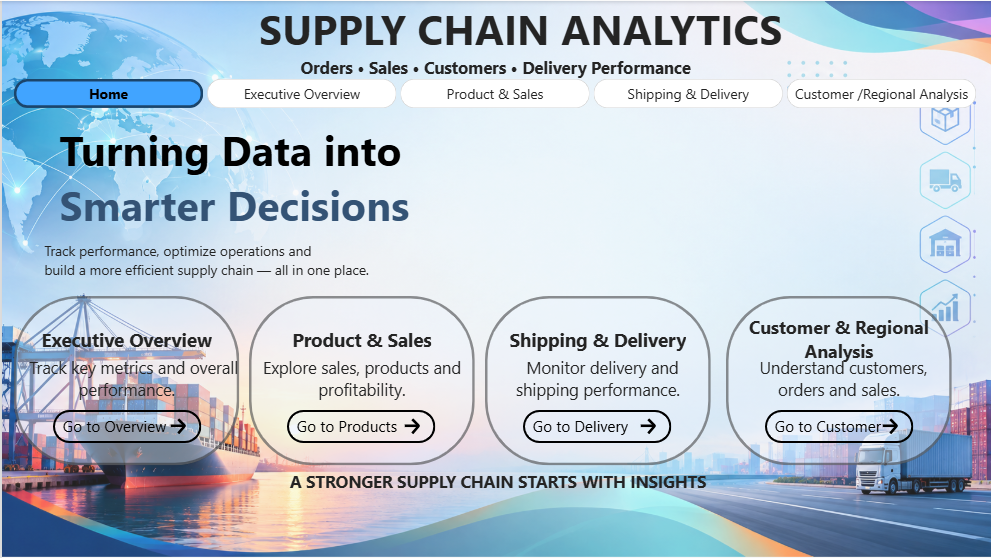

What the dashboard file says about the page in this screenshot:
{"tool":"powerbi","page":{"name":"Home","canvas":[1920,1080],"ordinal":0},"visuals":[{"type":"pageNavigator","box":[23.5,151,1866.7,56.9],"z":0},{"type":"textbox","box":[0,0,1919.4,150],"z":1000},{"type":"textbox","box":[23.4,233.9,1866.6,306.1],"z":2000},{"type":"shape","box":[24.1,570.4,436.1,327.8],"z":3000},{"type":"textbox","box":[24.1,687,437,94.4],"z":4000},{"type":"actionButton","box":[98.1,790.7,287.2,63.8],"z":5000},{"type":"shape","box":[477.8,570.4,437,327.8],"z":6000},{"type":"shape","box":[935.2,570.4,437,327.8],"z":7000},{"type":"shape","box":[1401.9,570.4,437,327.8],"z":8000},{"type":"actionButton","box":[551.9,790.7,287.2,63.8],"z":9000},{"type":"actionButton","box":[1009.3,790.7,287.2,63.8],"z":10000},{"type":"actionButton","box":[1475.9,790.7,287.2,63.8],"z":11000},{"type":"textbox","box":[935.2,687,437,94.4],"z":12000},{"type":"textbox","box":[477.8,687,437,94.4],"z":13000},{"type":"textbox","box":[1401.9,687,437,103.7],"z":14000},{"type":"textbox","box":[0,907.4,1920.4,51.9],"z":15000}]}

Visuals, with their boxes in screenshot pixels (x1, y1, x2, y2), scaled from the page's 1920x1080 canvas onto the 991x558 screenshot:
pageNavigator: x1=12, y1=78, x2=976, y2=107
textbox: x1=0, y1=0, x2=990, y2=78
textbox: x1=12, y1=121, x2=976, y2=279
shape: x1=12, y1=295, x2=238, y2=464
textbox: x1=12, y1=355, x2=238, y2=404
actionButton: x1=51, y1=409, x2=199, y2=441
shape: x1=247, y1=295, x2=472, y2=464
shape: x1=483, y1=295, x2=708, y2=464
shape: x1=724, y1=295, x2=949, y2=464
actionButton: x1=285, y1=409, x2=433, y2=441
actionButton: x1=521, y1=409, x2=669, y2=441
actionButton: x1=762, y1=409, x2=910, y2=441
textbox: x1=483, y1=355, x2=708, y2=404
textbox: x1=247, y1=355, x2=472, y2=404
textbox: x1=724, y1=355, x2=949, y2=409
textbox: x1=0, y1=469, x2=990, y2=496
